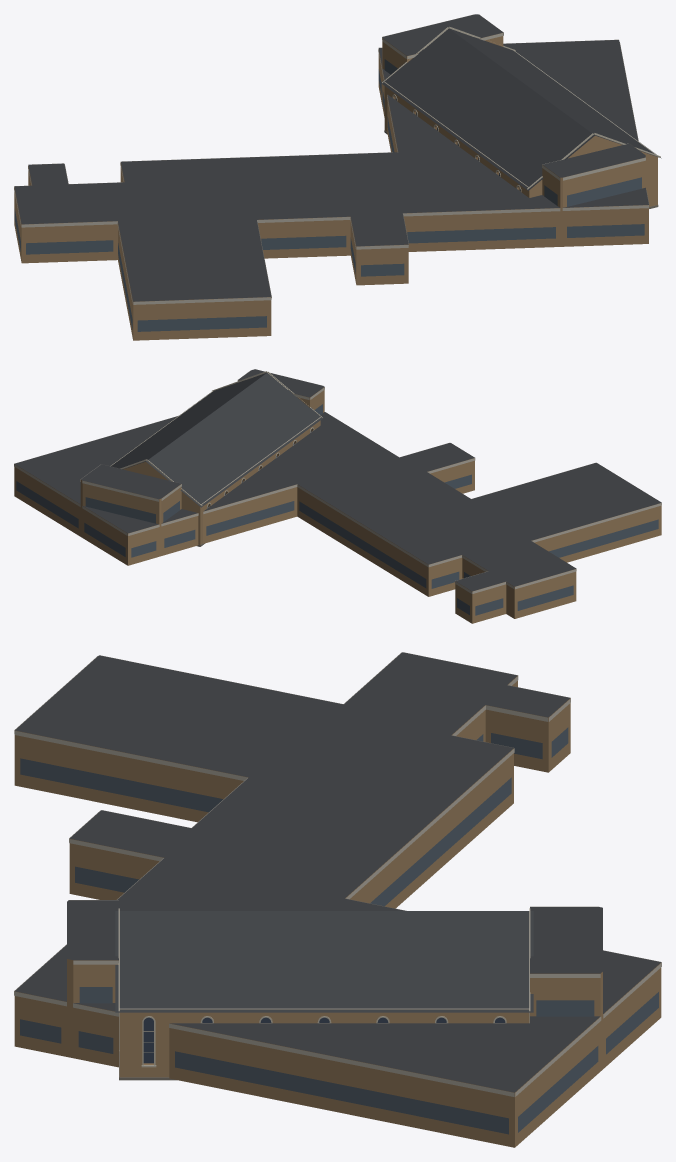
File: church-unnamed-bo212125020.glb
The picture shows the model from 3 angles, top to bottom: view 1: azimuth 30°, elevation 25°; view 2: azimuth 150°, elevation 25°; view 3: azimuth 270°, elevation 25°; orthographic projection. The views are drawn at different scales.
Parts seen in each view (by area): view 1: church_unnamed_bo212125020; view 2: church_unnamed_bo212125020; view 3: church_unnamed_bo212125020.
Boxes of the visible parts, bbox=[...] form: church_unnamed_bo212125020: bbox=[14, 14, 661, 340]; church_unnamed_bo212125020: bbox=[14, 369, 661, 623]; church_unnamed_bo212125020: bbox=[14, 652, 661, 1147].
Bounding box in the file's own units: 99.28 × 13.44 × 61.68.
